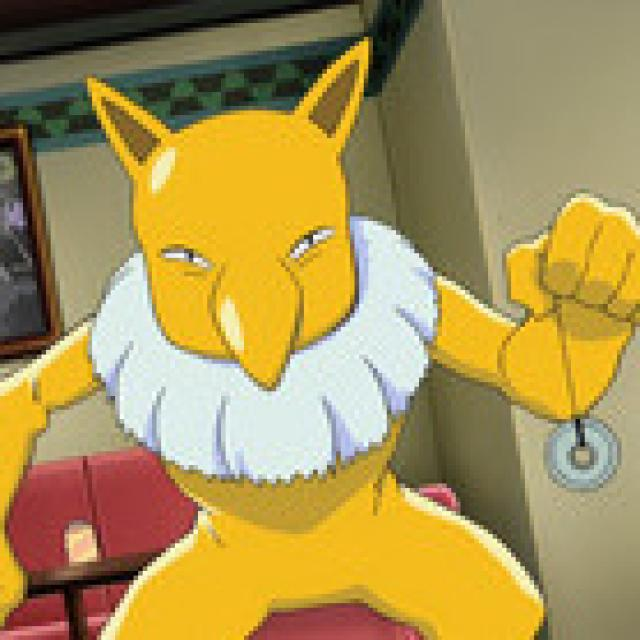Hypno: (69, 95, 626, 623)
